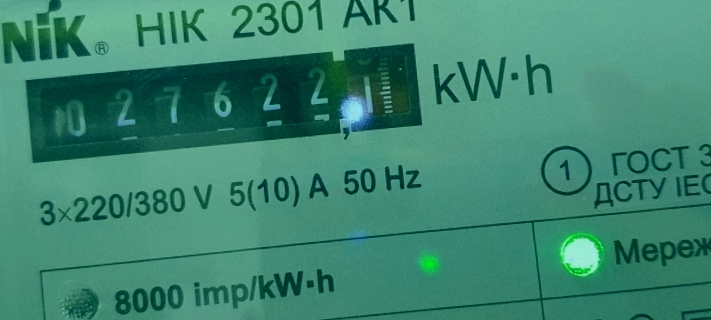0: (61, 94, 89, 138)
1: (358, 71, 377, 115)
2: (255, 69, 283, 112), (111, 84, 138, 128), (304, 63, 330, 106)
6: (208, 76, 234, 119)
7: (159, 82, 186, 127)
screen: (11, 31, 436, 170)
